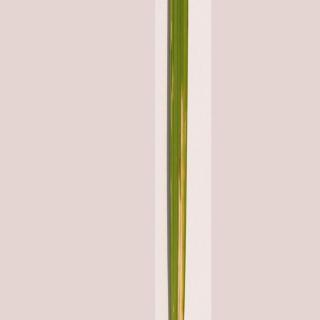Hawar-Daun: (156, 5, 203, 320)
